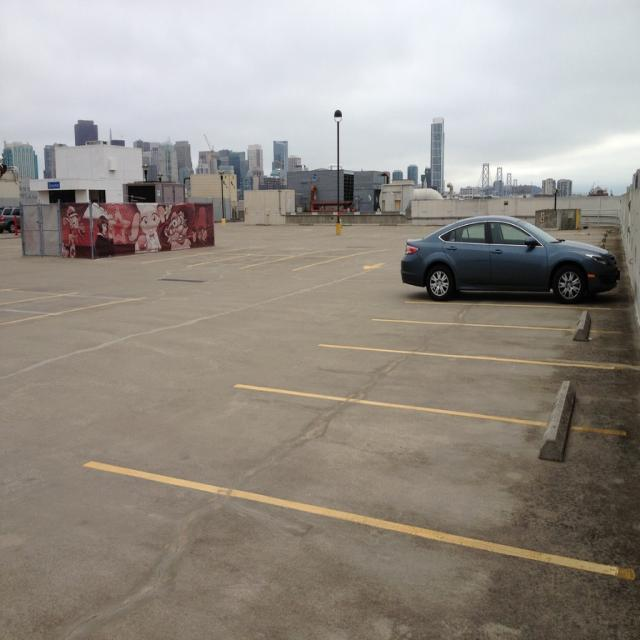car: (403, 206, 610, 304)
